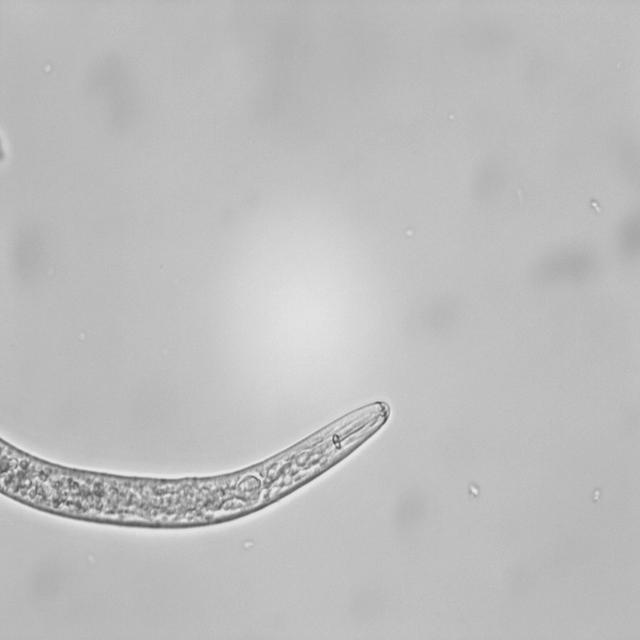Helicotylenchus: (0, 387, 405, 536)
